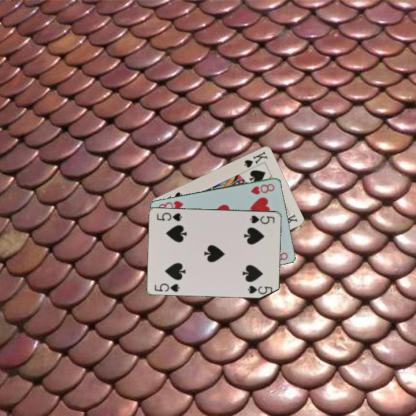5s: (247, 213, 276, 225), (152, 281, 181, 293)
8h: (248, 181, 276, 195)
Ks: (242, 148, 269, 168)
